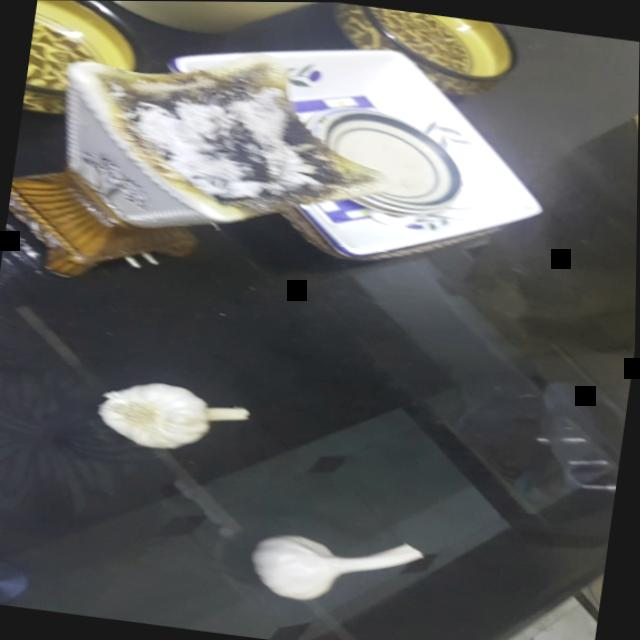garlic: (234, 500, 434, 622), (82, 359, 271, 470)
